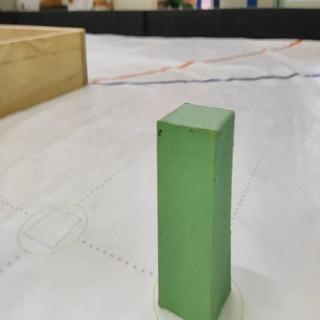greenbox: (156, 101, 236, 320)
